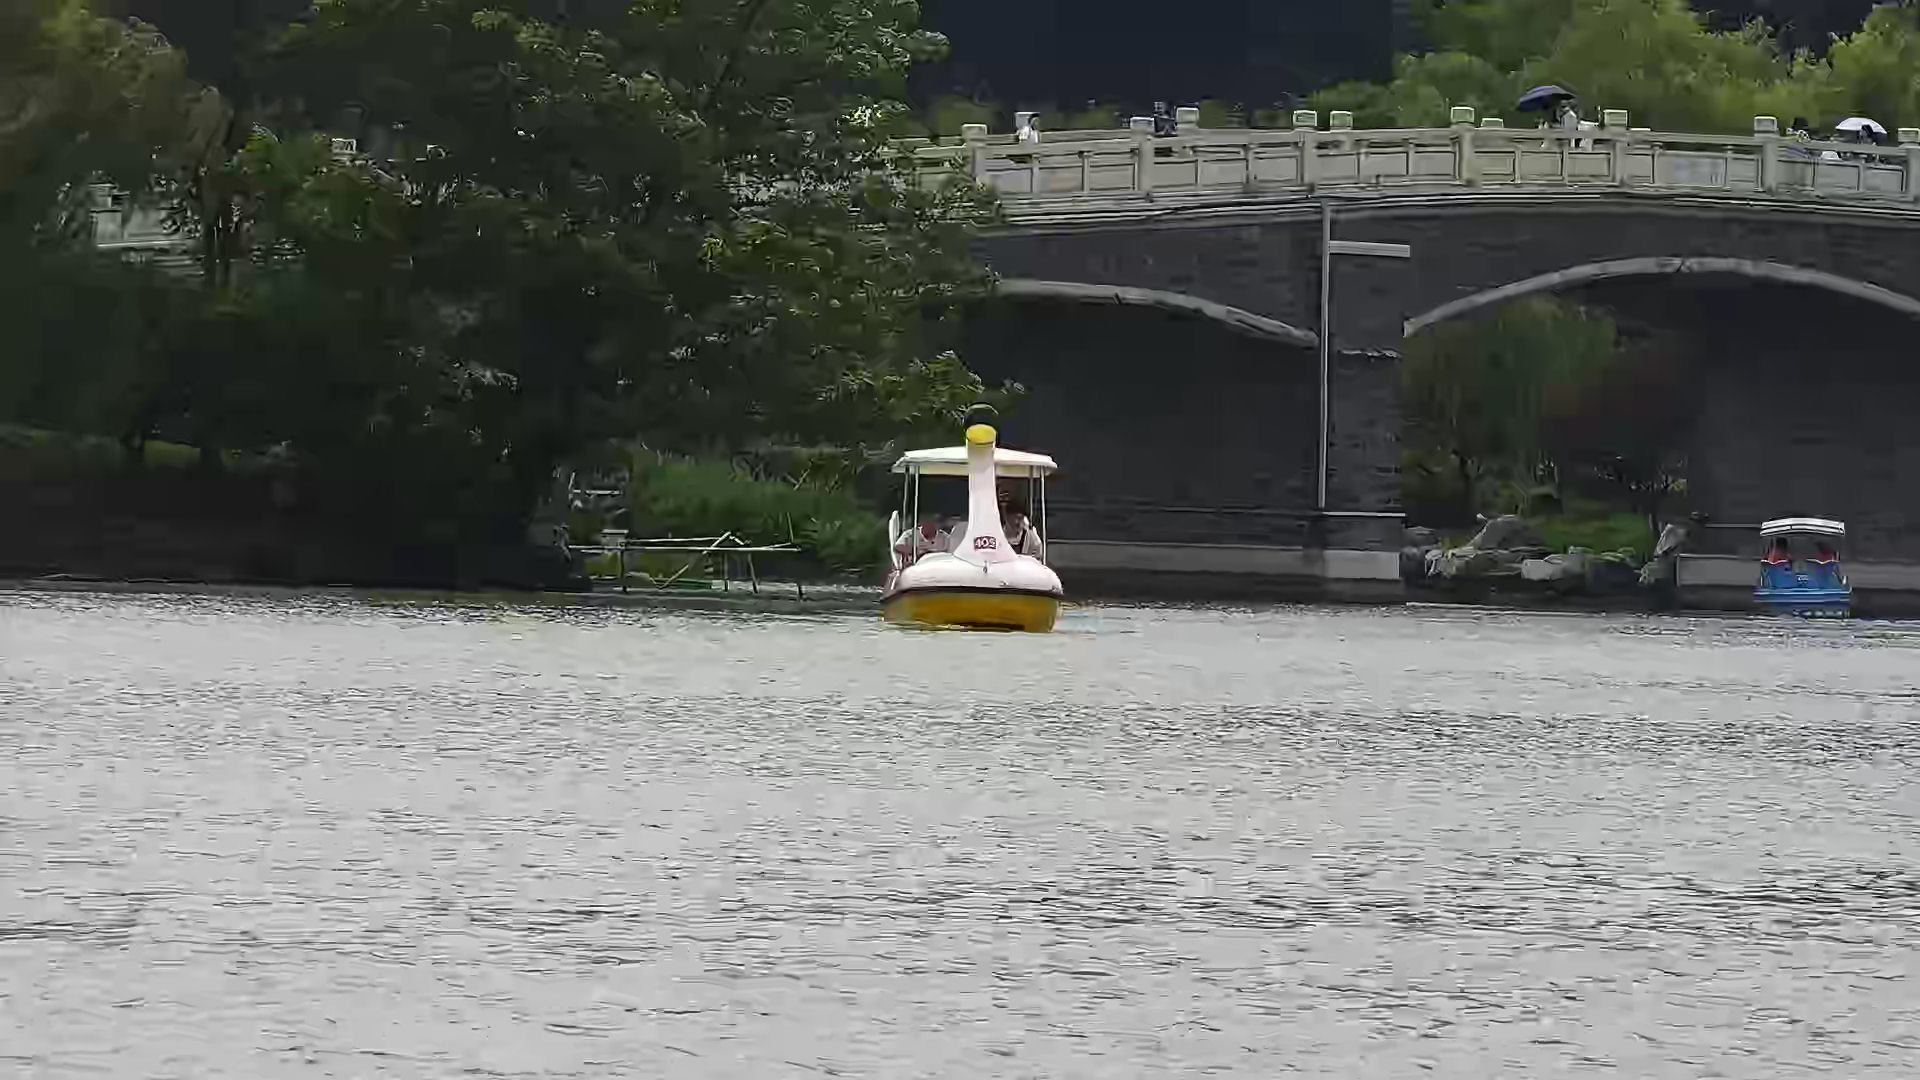boat: (885, 418, 1072, 638), (1753, 502, 1857, 622)
bridge: (910, 84, 1917, 454)
